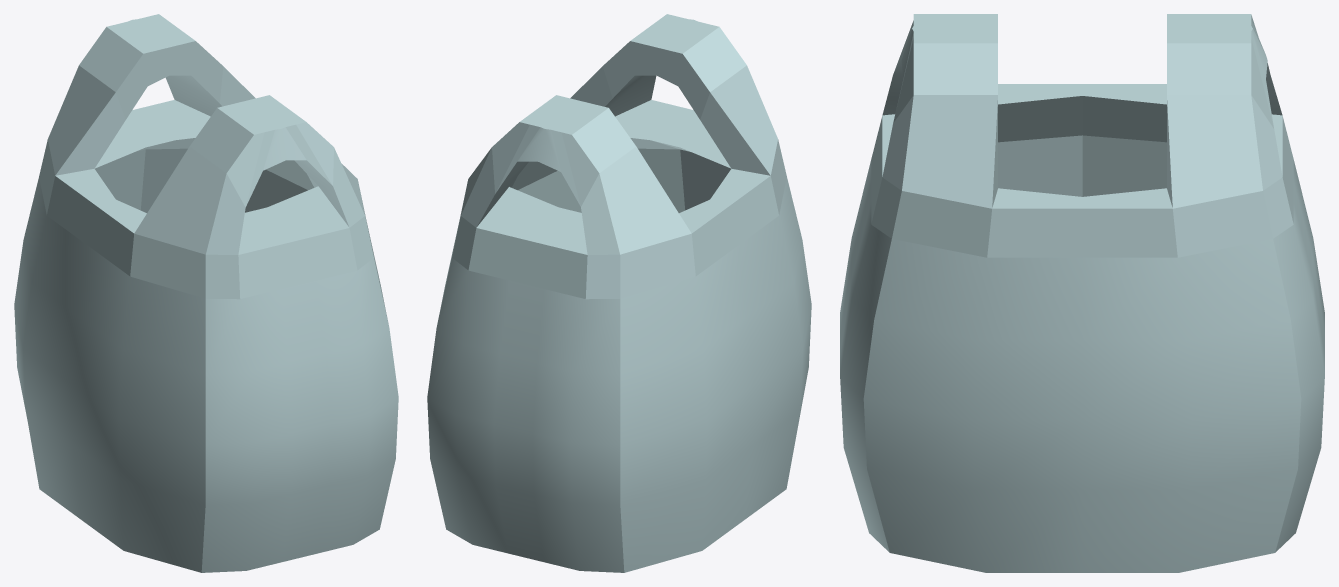
The model's file is TrashBag_LowPoly.fbx.
3 renders of one model, left to right at view 1: azimuth 30°, elevation 25°; view 2: azimuth 150°, elevation 25°; view 3: azimuth 270°, elevation 25°, orthographic. The views are drawn at different scales.
Visible parts, largest first — view 1: pCube3; view 2: pCube3; view 3: pCube3.
Boxes of the visible parts, box(x1,y1,x2,y2) form: pCube3: box(14, 14, 398, 572); pCube3: box(427, 14, 811, 572); pCube3: box(840, 14, 1324, 572).
Size of the model in its own units: 1.63 by 2.38 by 2.2.
